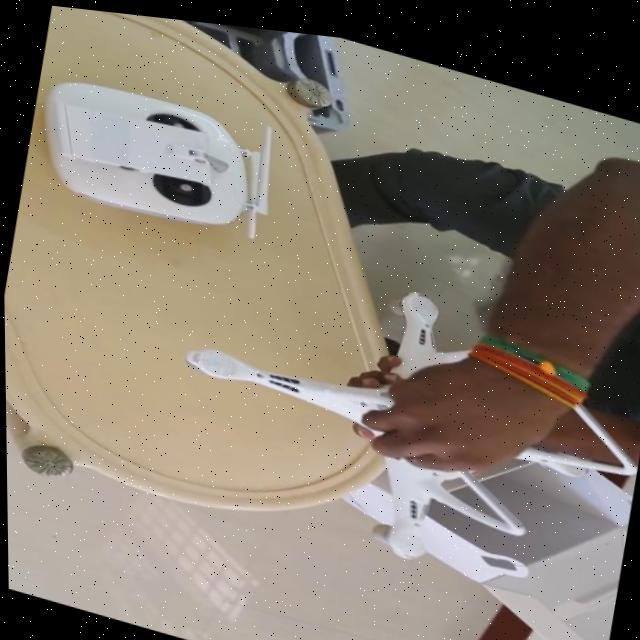drones: (158, 224, 640, 591)
